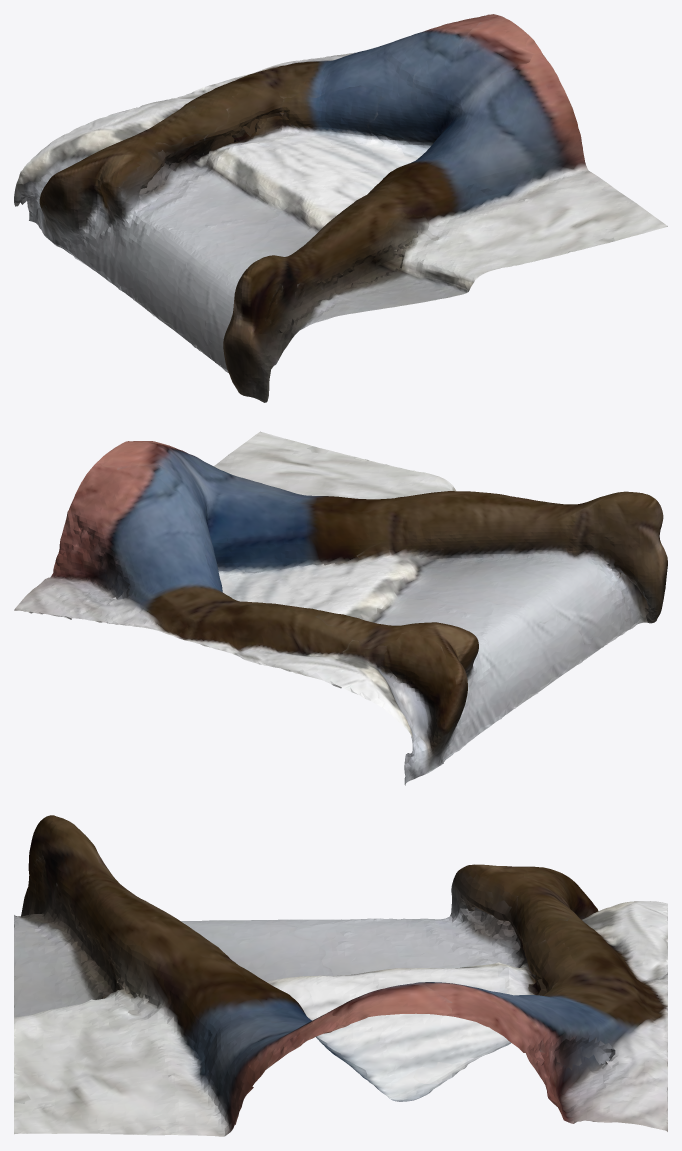
3 views of the same model, one above another, from view 1: azimuth 30°, elevation 25°; view 2: azimuth 150°, elevation 25°; view 3: azimuth 270°, elevation 25° (orthographic). The views are drawn at different scales.
Size of the model in its own units: 0.8531 by 0.3292 by 0.8635.
1 material, 1 textured.
